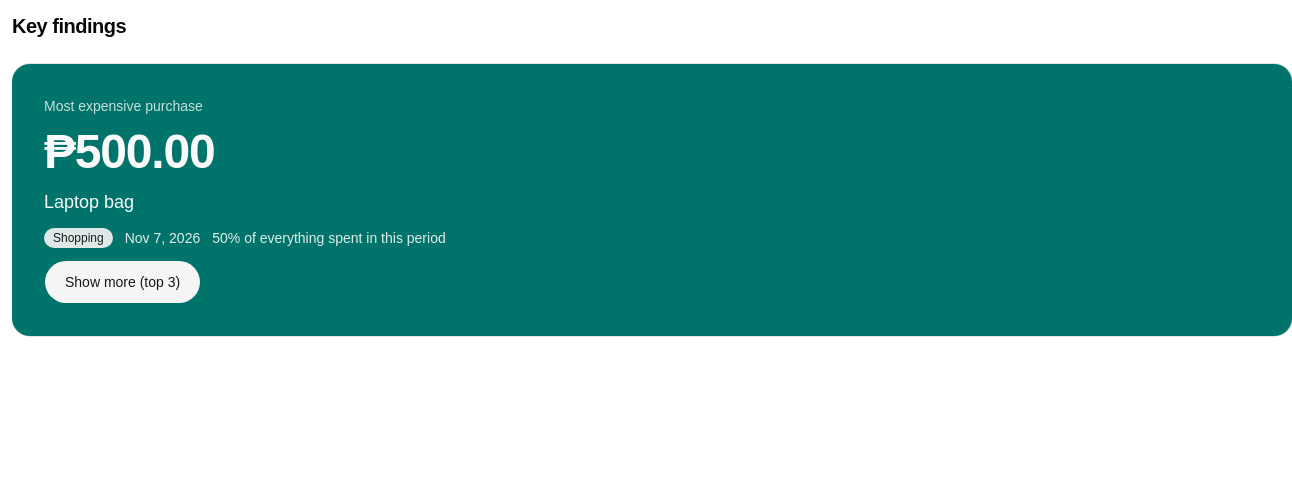
it: key findings › lists the top expenses, highest first, behind Show more
Click the button "Show more (top 3)" at (123, 282), box [44,260,201,304]
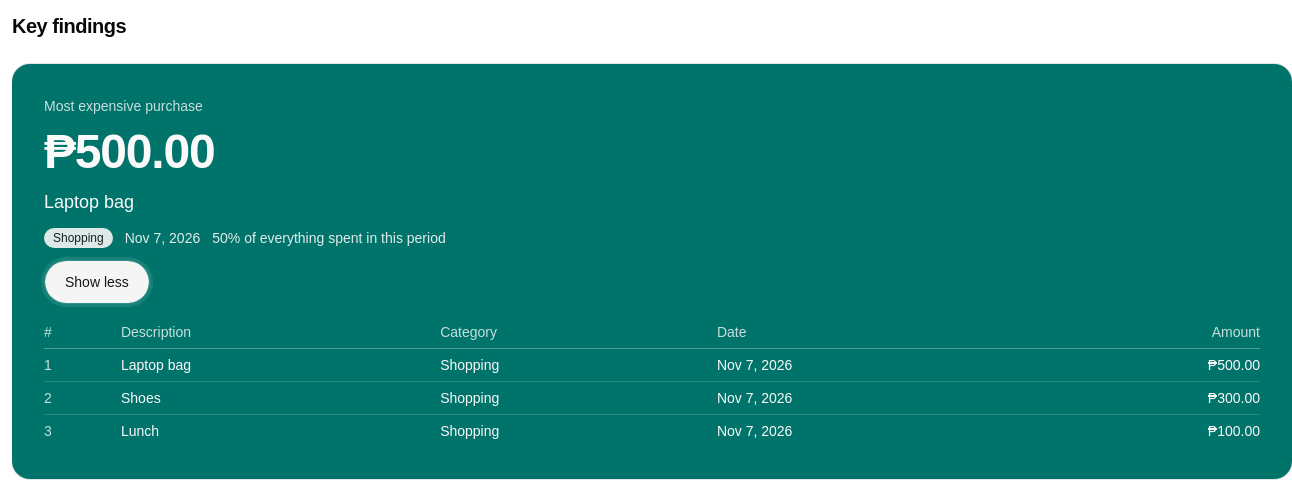
Click the button "Show less" at (97, 282), box [44,260,150,304]
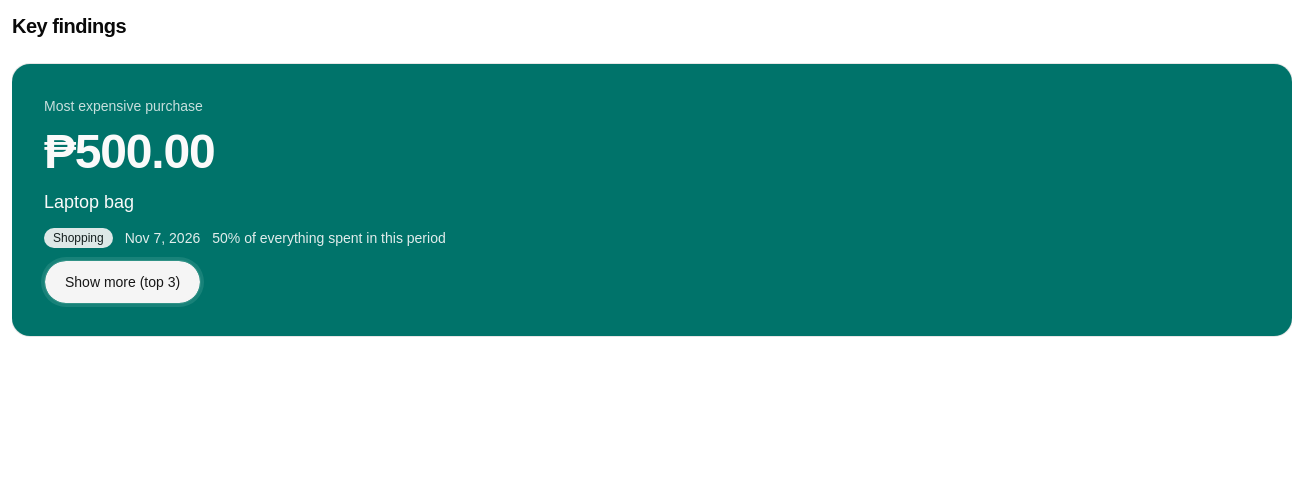
Check: the table with test id "top-expenses" is gone
